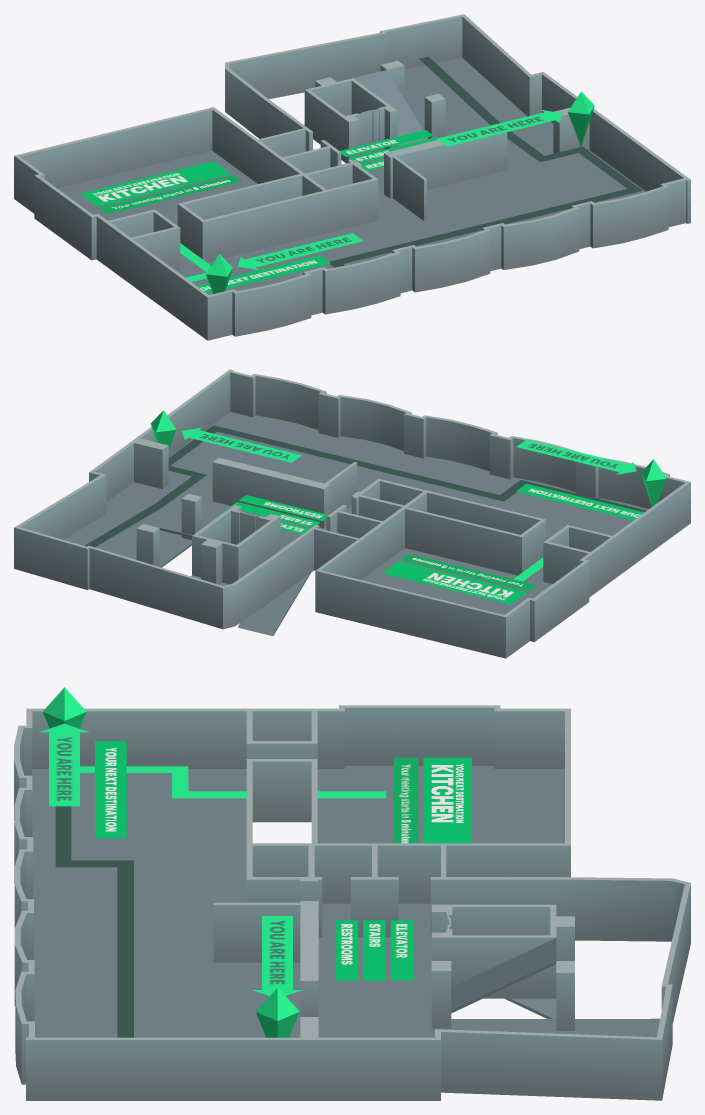
Rendered from SM_ENV_XRStudio_merged_x1000.glb.
The picture shows the model from 3 angles, top to bottom: view 1: azimuth 30°, elevation 25°; view 2: azimuth 150°, elevation 25°; view 3: azimuth 270°, elevation 25°; orthographic projection. The views are drawn at different scales.
Parts seen in each view (by area): view 1: SM_ENV_XRStudio_merged_x1000; view 2: SM_ENV_XRStudio_merged_x1000; view 3: SM_ENV_XRStudio_merged_x1000.
Boxes of the visible parts, x1=… form: SM_ENV_XRStudio_merged_x1000: x1=14, y1=14, x2=690, y2=340; SM_ENV_XRStudio_merged_x1000: x1=14, y1=369, x2=690, y2=658; SM_ENV_XRStudio_merged_x1000: x1=14, y1=687, x2=690, y2=1100.
Size of the model in its own units: 14.87 by 3.27 by 12.71.
1 material, 1 textured.
